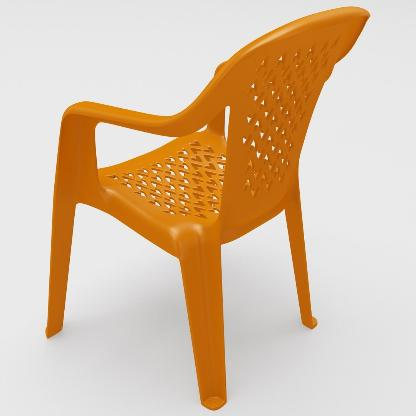chair: (37, 1, 375, 400)
